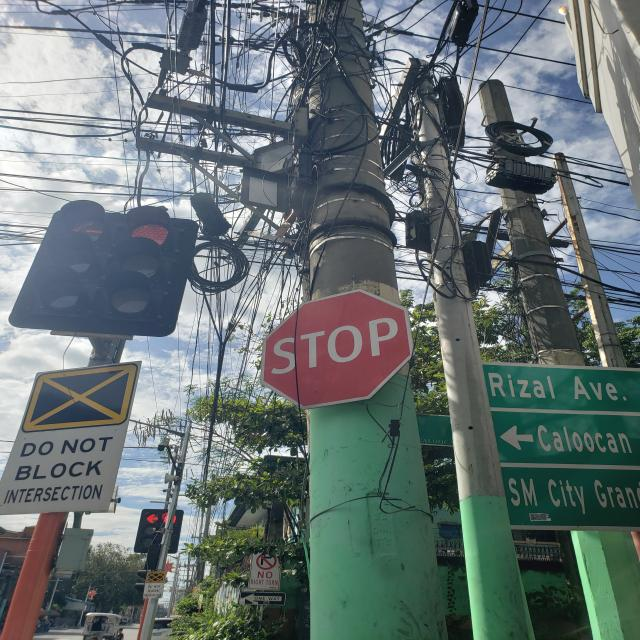stop-sign: (261, 288, 416, 410)
